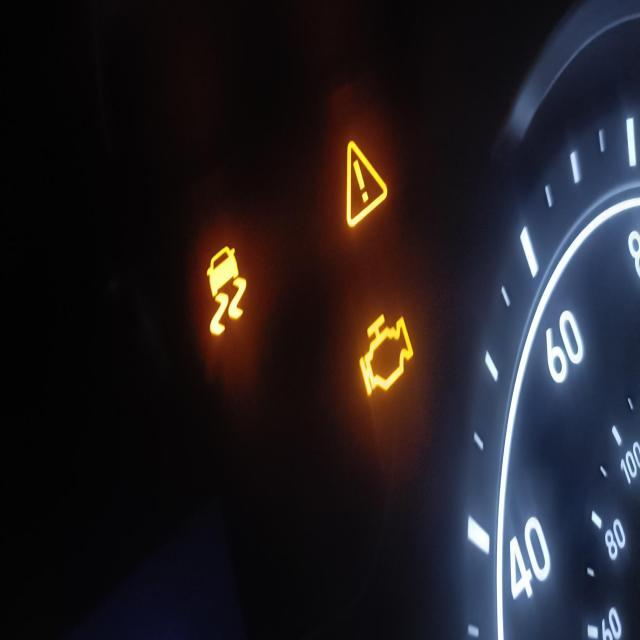CriticalWarning: (336, 120, 389, 232)
EngineWarning: (352, 294, 422, 414)
TractionControl: (198, 222, 254, 356)
